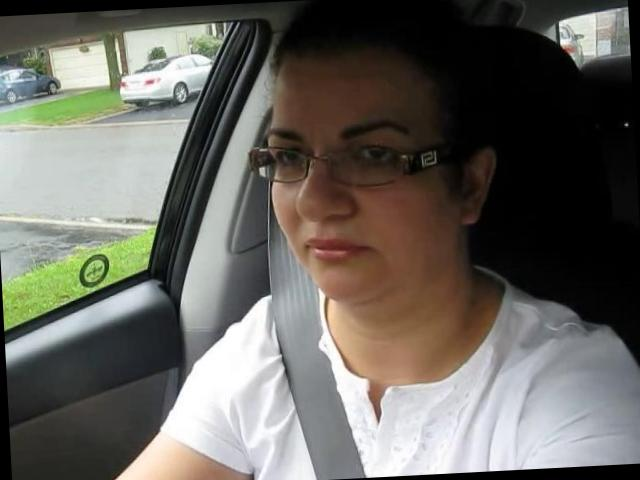eye_open: (344, 138, 409, 178), (270, 143, 309, 177)
face: (260, 84, 450, 307)
